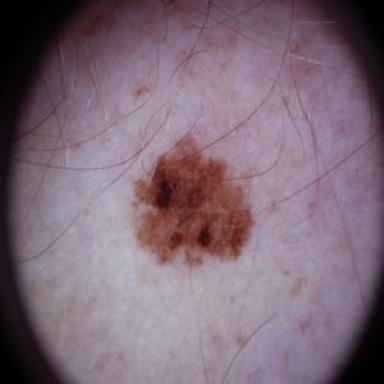Melanoma: (135, 135, 253, 265)
